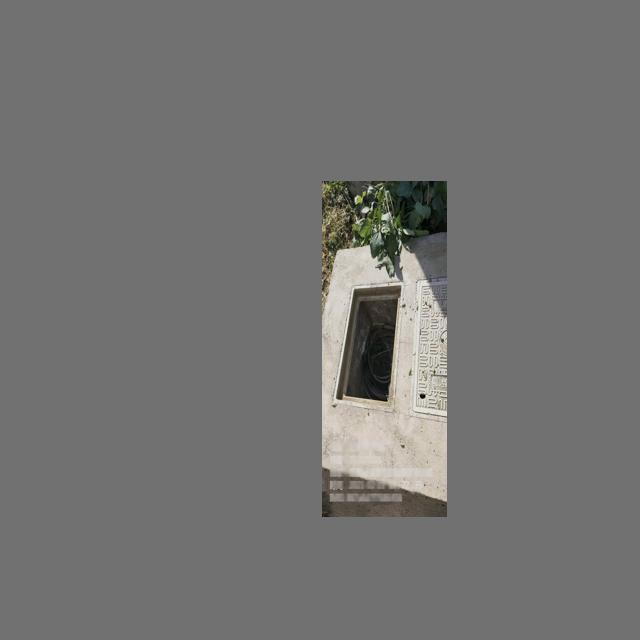lose: (332, 280, 403, 413)
